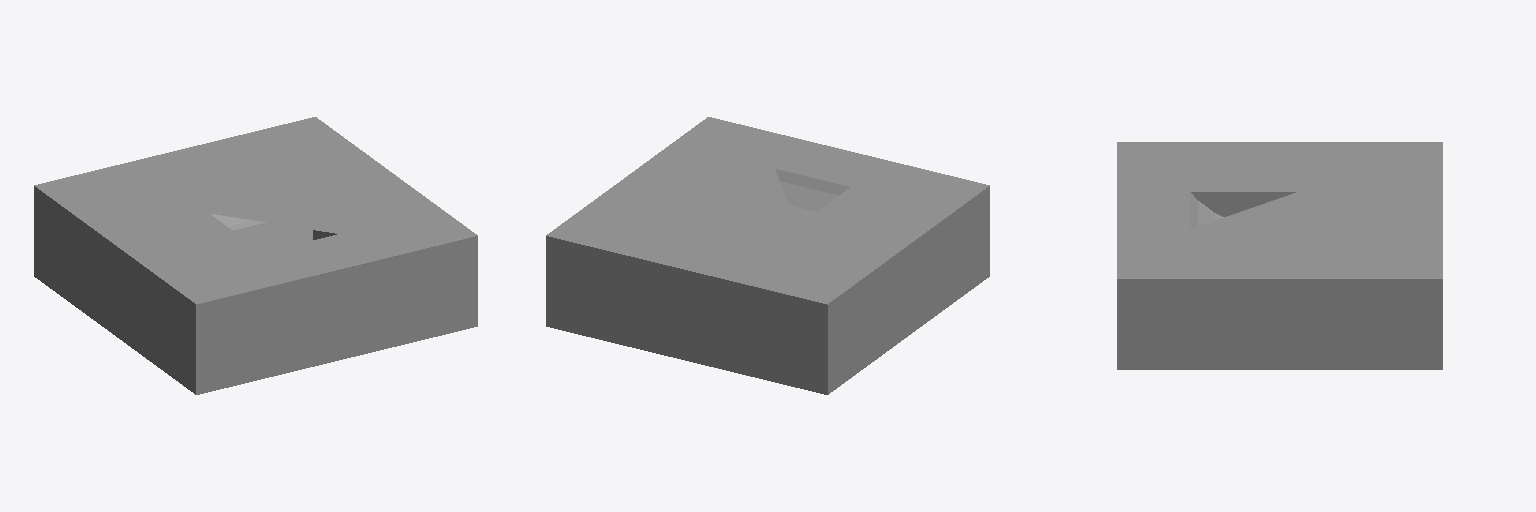
File: vertical_cutout.obj
3 views of the same model, side by side, from view 1: azimuth 30°, elevation 25°; view 2: azimuth 150°, elevation 25°; view 3: azimuth 270°, elevation 25° (orthographic).
Parts seen in each view (by area): view 1: Cube; view 2: Cube; view 3: Cube.
Part boxes in pixels (bbox=[...]): Cube: bbox=[34, 117, 477, 394]; Cube: bbox=[546, 117, 989, 394]; Cube: bbox=[1117, 142, 1442, 369].
Size of the model in its own units: 13 by 4 by 13.